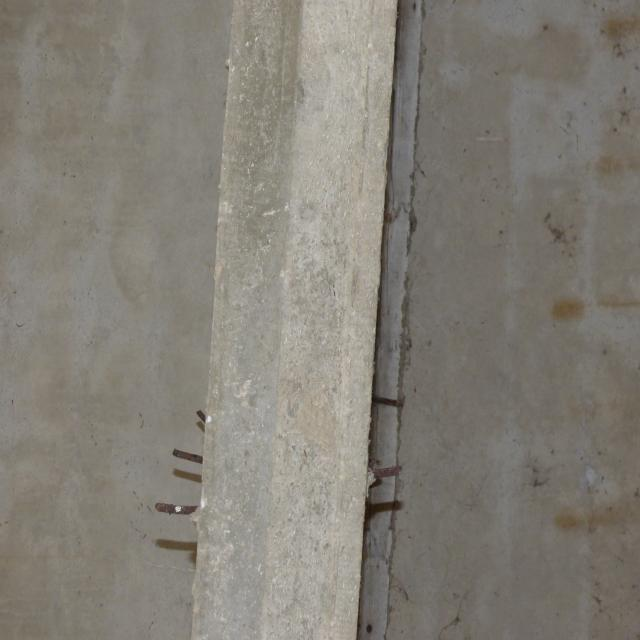corrosion: (152, 407, 224, 569), (363, 381, 412, 546)
